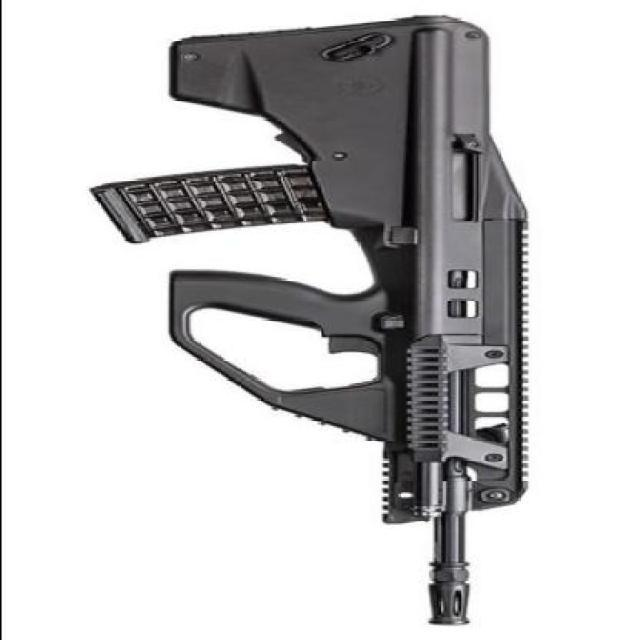weapon: (89, 12, 531, 624)
